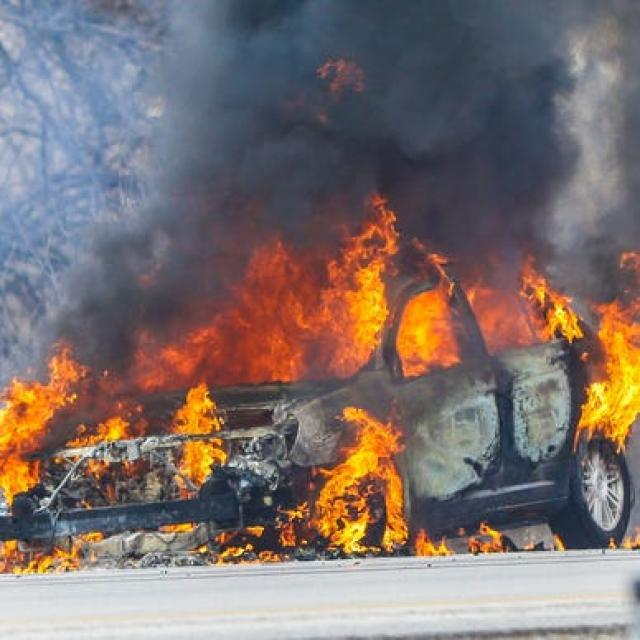Fire: (0, 332, 237, 564), (222, 202, 474, 384), (472, 251, 640, 458), (248, 405, 458, 559)
Smoke: (181, 0, 569, 253), (0, 127, 179, 330)
